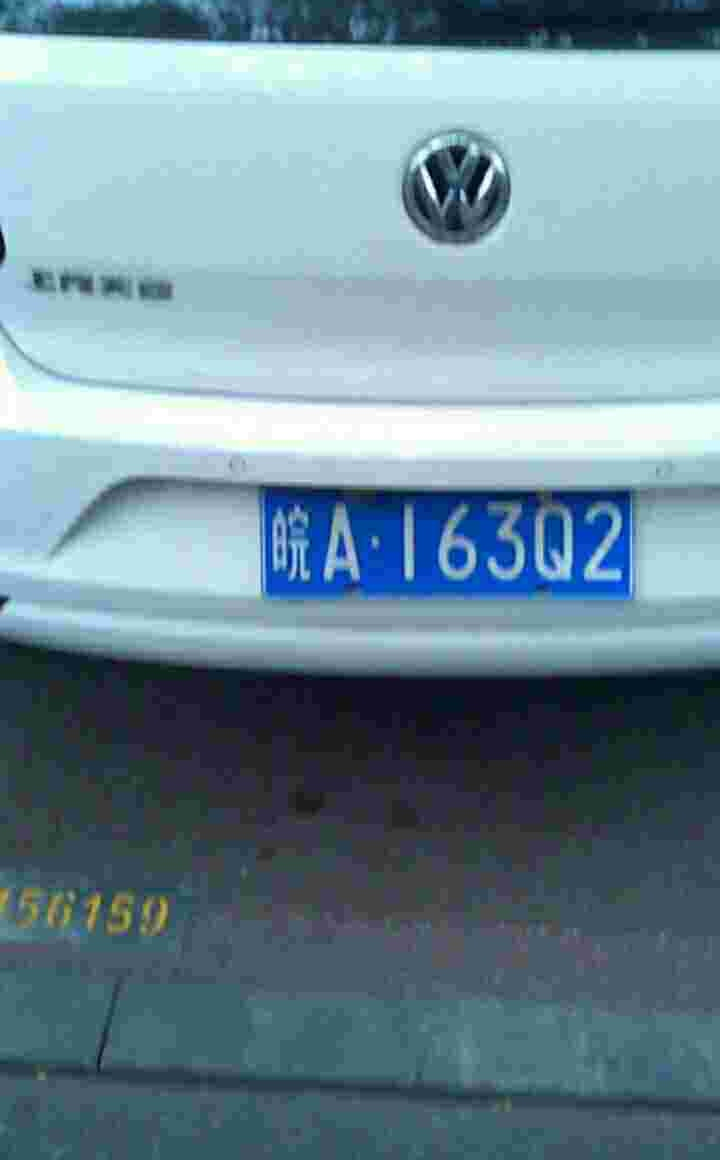license_plate: (259, 480, 626, 608)
